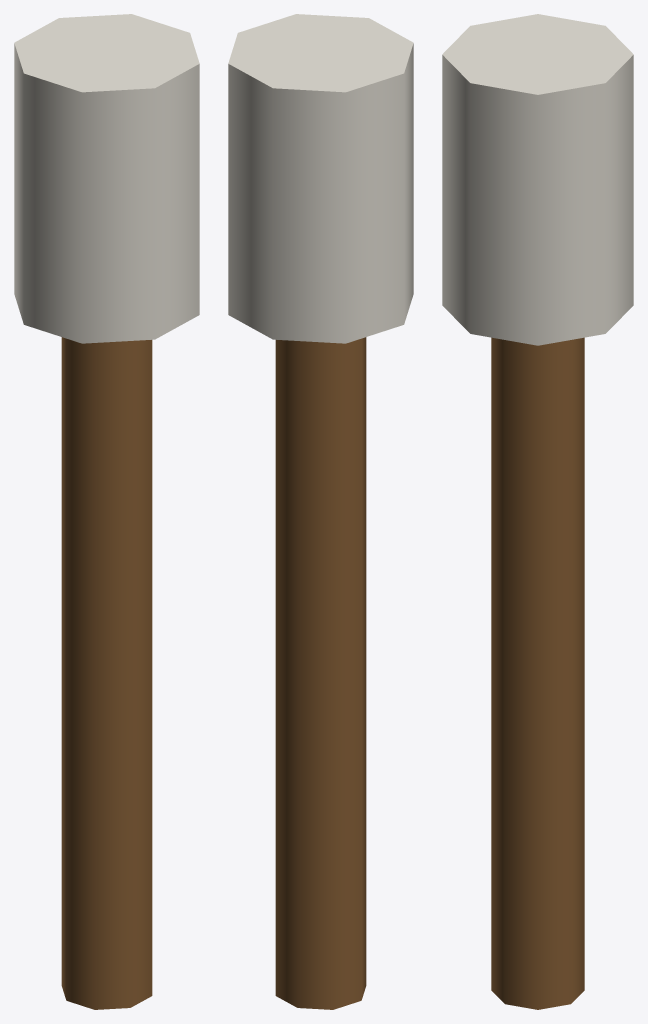
Rendered from iceni-torch.glb.
The picture shows the model from 3 angles, left to right: view 1: azimuth 30°, elevation 25°; view 2: azimuth 150°, elevation 25°; view 3: azimuth 270°, elevation 25°; orthographic projection.
Visible parts, largest first — view 1: Handle, ClothTop; view 2: Handle, ClothTop; view 3: Handle, ClothTop.
Part boxes in pixels (x1=…): Handle: x1=61, y1=337, x2=152, y2=1009; ClothTop: x1=14, y1=14, x2=199, y2=343; Handle: x1=275, y1=337, x2=366, y2=1009; ClothTop: x1=228, y1=14, x2=413, y2=343; Handle: x1=491, y1=337, x2=584, y2=1009; ClothTop: x1=442, y1=14, x2=633, y2=345.
Bounding box in the file's own units: 0.09 × 0.485 × 0.09.
